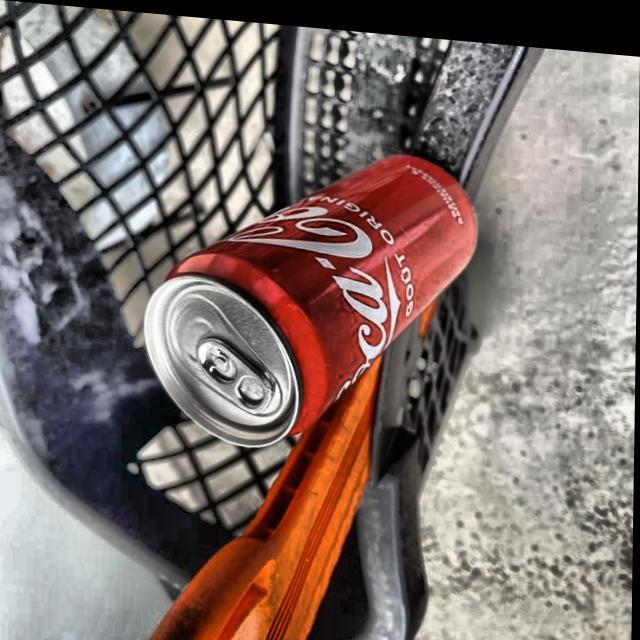can: (142, 128, 476, 458)
